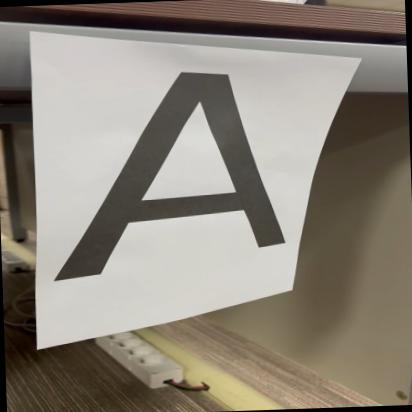seat: (50, 56, 302, 300)
